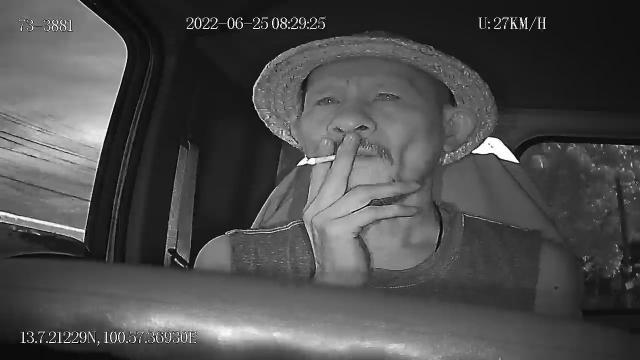SafeDriving: (368, 84, 407, 108), (310, 87, 346, 110)
Smoking: (304, 153, 338, 165)
